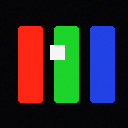1 square: (50, 45, 64, 59)
